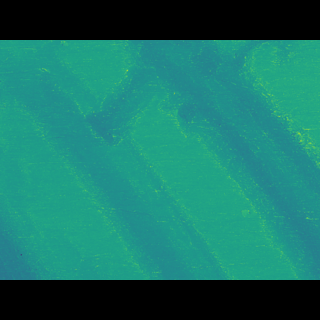Loch: (0, 73, 235, 250), (92, 67, 319, 249)
